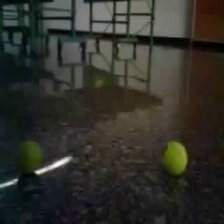tennis: (13, 140, 43, 174), (162, 140, 189, 174)
